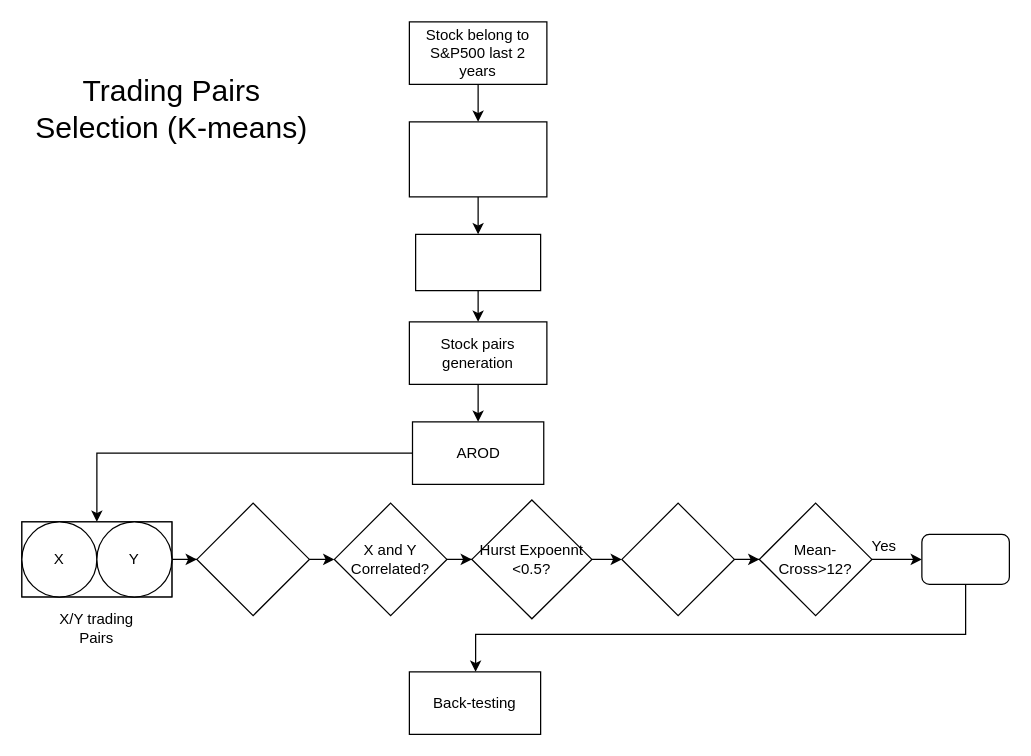
Some shapes in this 1031 by 756 pixel diagram are drawn without their labels. Each missing label, with the centre of its shape:
"Apply K-means Clustering" belongs at point (477, 262).
"Determine K-value (Elbow/Silhoutte Method)" belongs at point (477, 159).
"Eligible Pairs" belongs at point (965, 558).
"High-liquidity?" belongs at point (677, 559).
"X and Y cointegrated?" belongs at point (252, 559).
